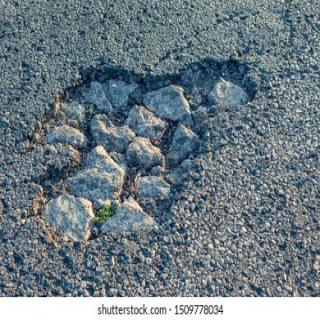pothole: (18, 52, 259, 242)
